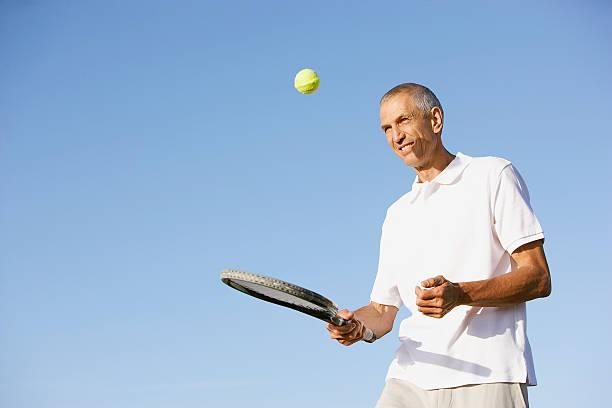ball_tennis: (294, 69, 320, 93)
